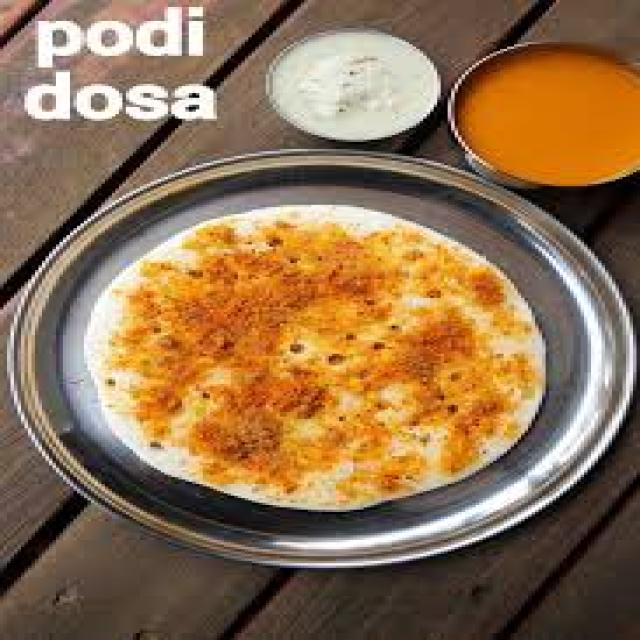DOSA: (90, 206, 549, 515)
